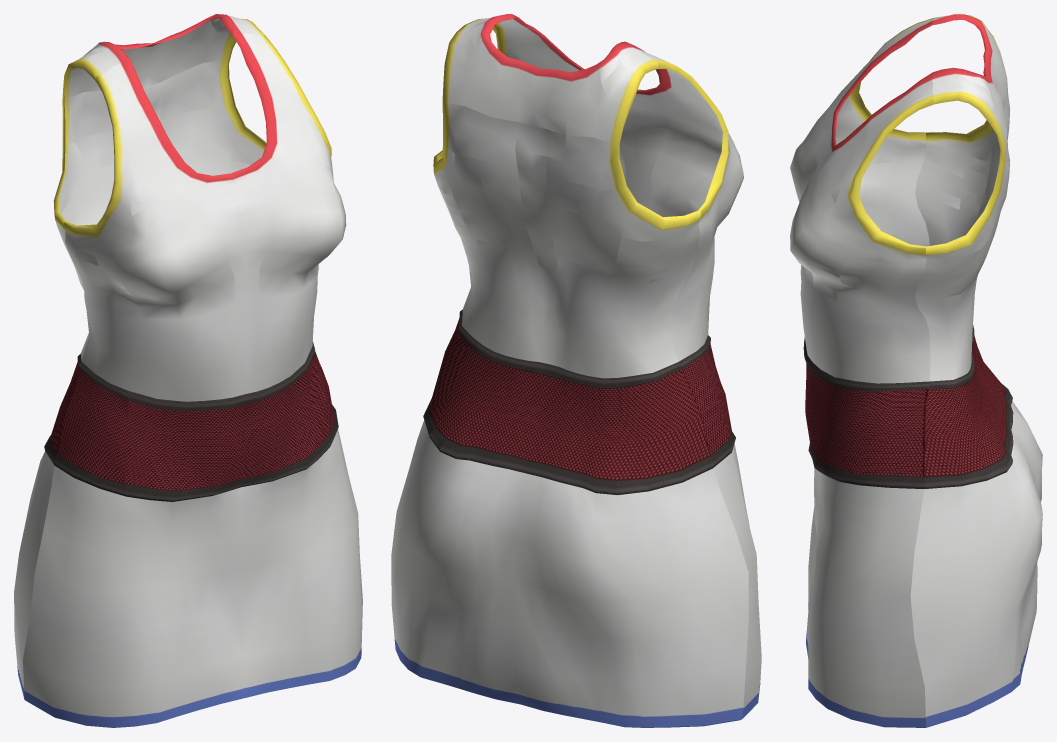
File: punkduck-tennis-dress.glb
3 views of the same model, side by side, from view 1: azimuth 30°, elevation 25°; view 2: azimuth 150°, elevation 25°; view 3: azimuth 270°, elevation 25° (orthographic). The views are drawn at different scales.
Parts seen in each view (by area): view 1: tennis dress; view 2: tennis dress; view 3: tennis dress.
Boxes of the visible parts, left/top/right/bottom form: tennis dress: left=14, top=14, right=362, bottom=727; tennis dress: left=391, top=14, right=761, bottom=727; tennis dress: left=790, top=14, right=1042, bottom=727.
Size of the model in its own units: 39.17 by 71.95 by 26.87.
Materials: 1 (1 with a texture image).
